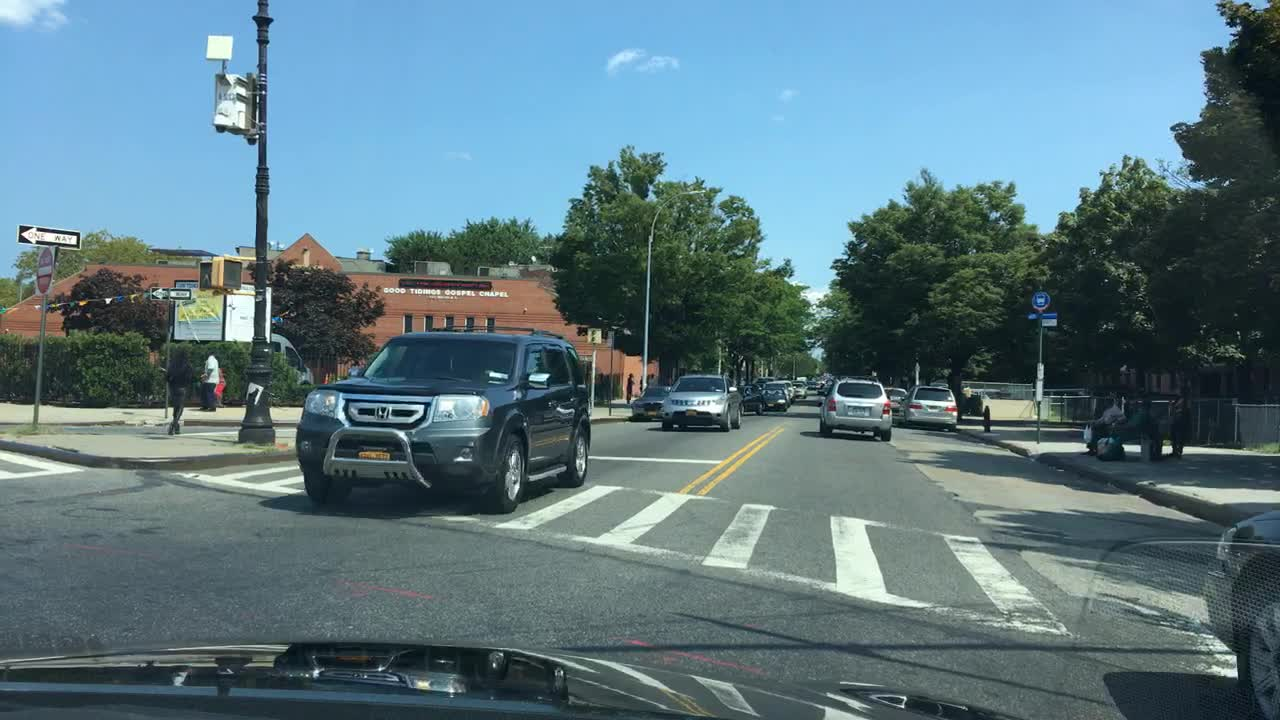car: (293, 321, 593, 514), (1201, 505, 1278, 718), (660, 368, 743, 432), (817, 377, 893, 441), (895, 380, 959, 429), (271, 332, 314, 384), (632, 384, 672, 420), (733, 384, 767, 414), (878, 384, 908, 413), (763, 384, 789, 410), (761, 380, 788, 398), (773, 377, 792, 401), (791, 384, 806, 399), (754, 375, 774, 386), (819, 377, 831, 392), (806, 378, 817, 390), (791, 380, 807, 387)
person: (163, 343, 194, 433), (1082, 396, 1125, 454), (195, 343, 219, 413), (1167, 387, 1190, 456), (213, 367, 227, 405), (623, 370, 633, 404), (644, 371, 656, 386), (638, 374, 644, 392)
traffic light: (200, 258, 243, 289)
traffic sign: (16, 222, 83, 250), (34, 243, 57, 295), (149, 286, 190, 300), (1030, 291, 1049, 310), (1026, 310, 1057, 318), (605, 329, 614, 347), (1036, 361, 1044, 380), (1035, 381, 1042, 400), (1041, 319, 1057, 326)
